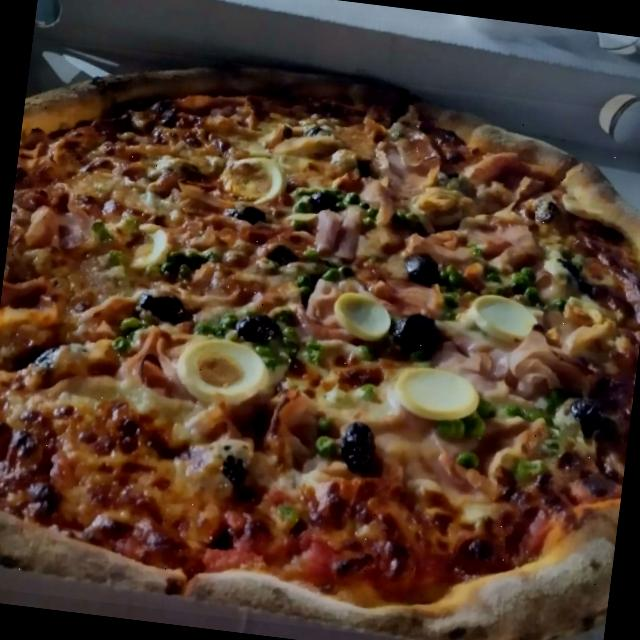pizza: (0, 68, 640, 640)
